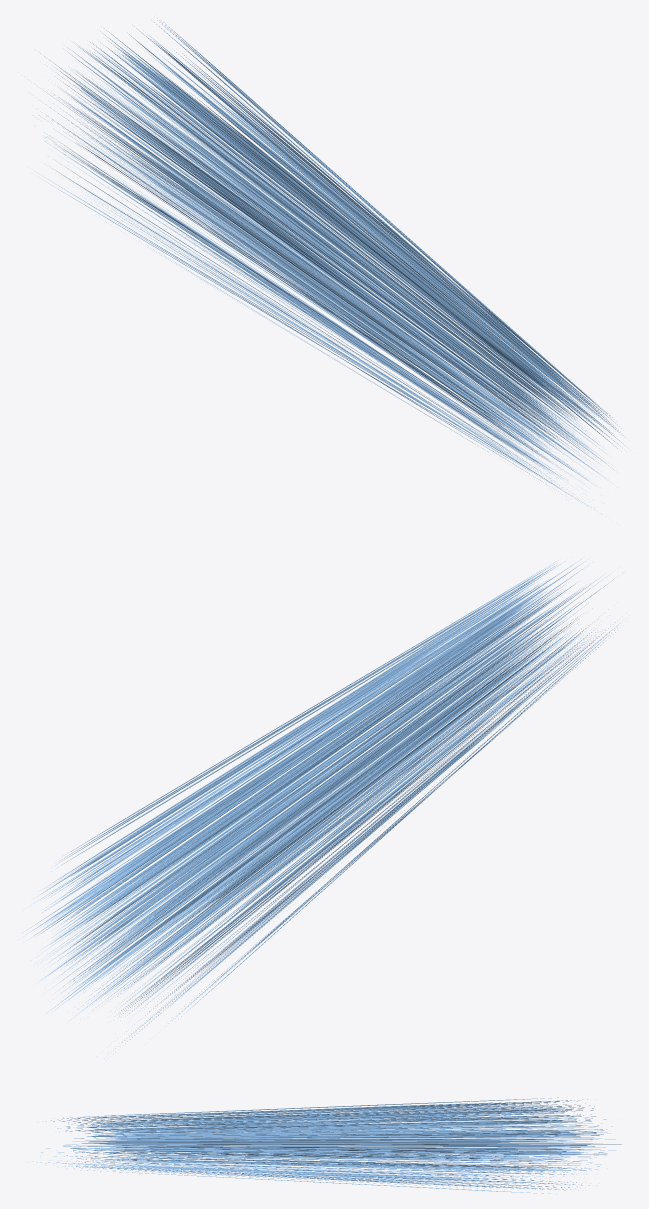
The model's file is струя.fbx.
The picture shows the model from 3 angles, top to bottom: view 1: azimuth 30°, elevation 25°; view 2: azimuth 150°, elevation 25°; view 3: azimuth 270°, elevation 25°; orthographic projection. The views are drawn at different scales.
Visible parts, largest first — view 1: Икосфера.010; view 2: Икосфера.010; view 3: Икосфера.010.
Boxes of the visible parts, left/top/right/bottom form: Икосфера.010: left=37, top=19, right=625, bottom=514; Икосфера.010: left=26, top=561, right=620, bottom=1050; Икосфера.010: left=25, top=1097, right=621, bottom=1194.
Size of the model in its own units: 370 by 348 by 2119.
